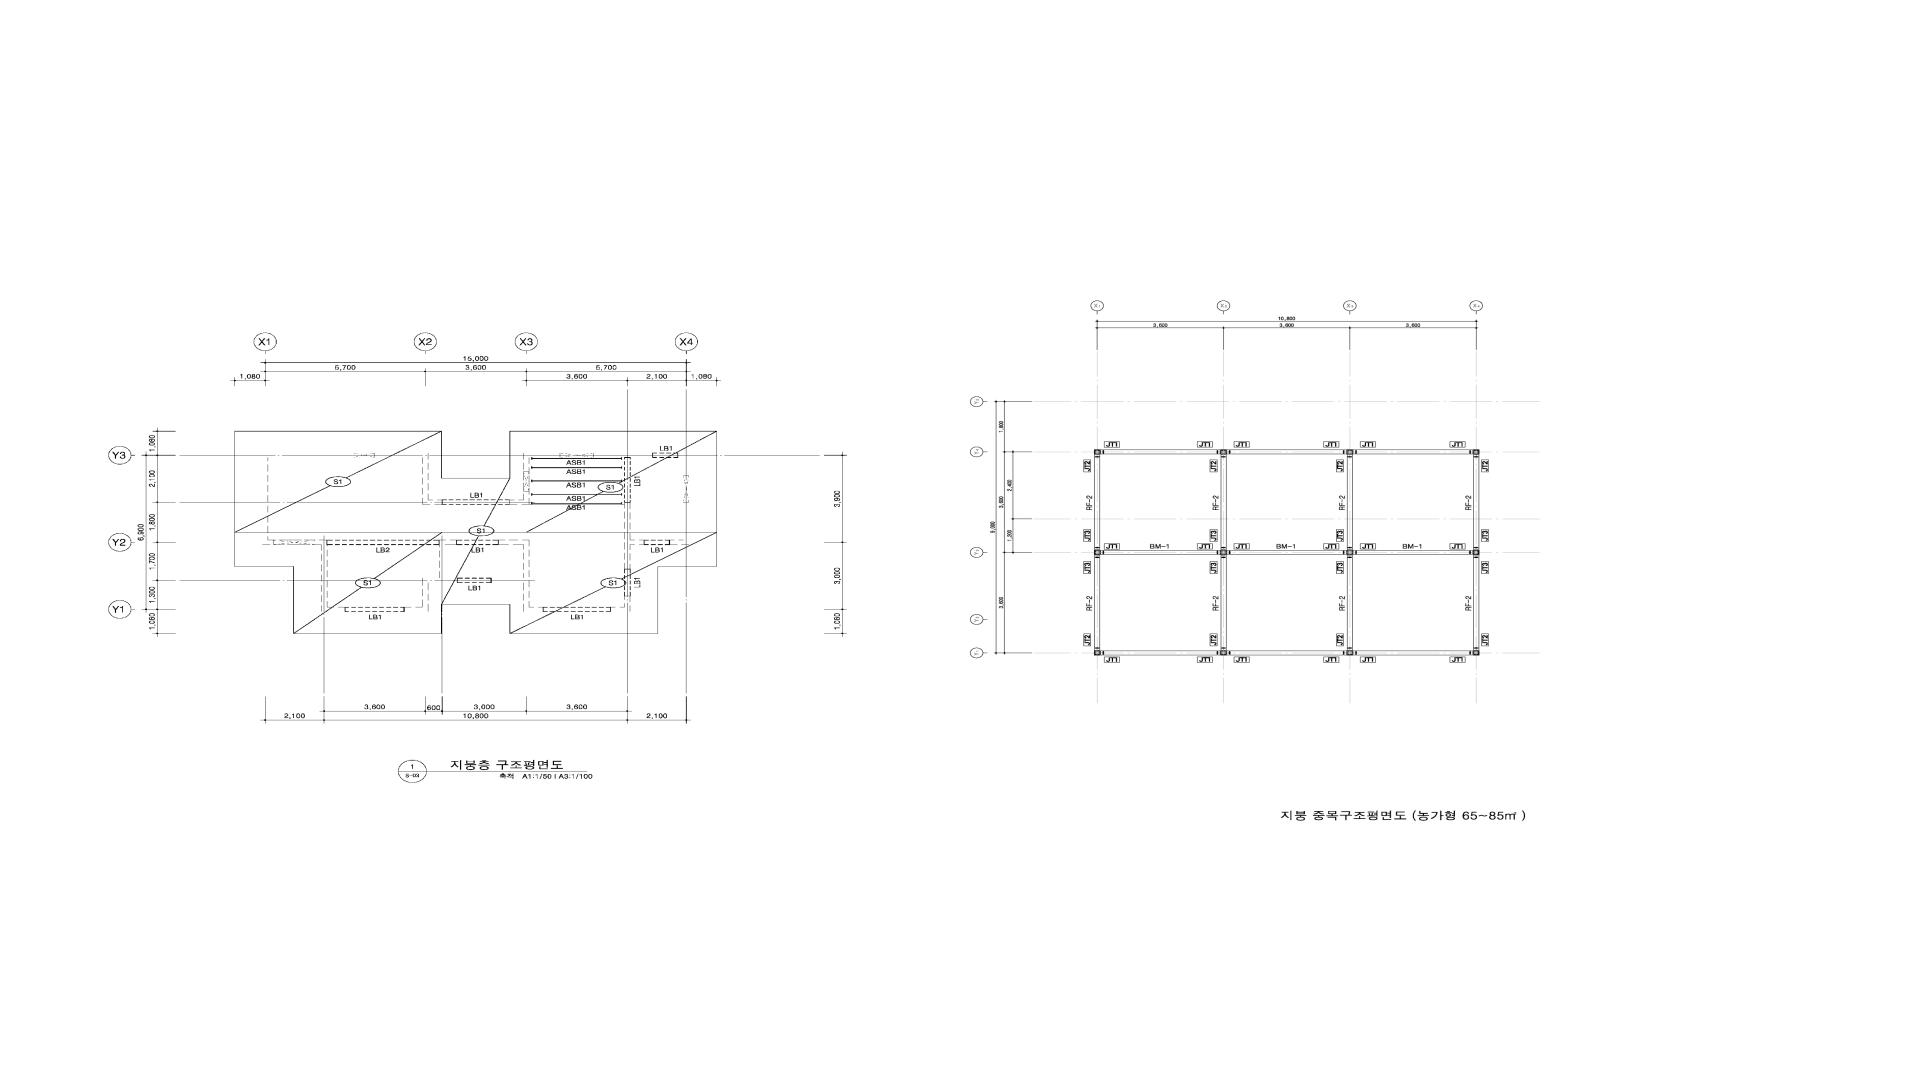wall: (262, 454, 353, 545), (405, 541, 458, 612), (492, 541, 543, 612), (375, 454, 442, 505), (315, 541, 345, 612), (625, 502, 644, 570), (670, 502, 690, 545), (524, 454, 560, 472), (1100, 450, 1221, 455), (1100, 550, 1221, 555), (1100, 650, 1221, 655), (1473, 454, 1480, 550), (1353, 550, 1473, 555), (1226, 550, 1346, 555), (1226, 650, 1346, 655), (1346, 555, 1353, 650), (1473, 555, 1480, 650), (1348, 455, 1353, 550), (1095, 455, 1100, 550), (1095, 555, 1100, 650), (1221, 555, 1226, 650), (1221, 455, 1226, 550), (1226, 450, 1346, 454), (1353, 651, 1473, 655), (1353, 450, 1473, 454), (611, 596, 630, 612), (678, 454, 690, 476), (510, 492, 529, 505), (593, 454, 653, 458), (1346, 650, 1353, 655), (1473, 650, 1480, 655), (1473, 550, 1480, 555), (1346, 550, 1353, 555), (1220, 550, 1226, 555), (1346, 450, 1353, 455), (1473, 450, 1480, 455), (1095, 650, 1100, 655), (1221, 650, 1226, 655), (1095, 550, 1100, 555), (1095, 450, 1100, 455), (1221, 450, 1226, 455)
